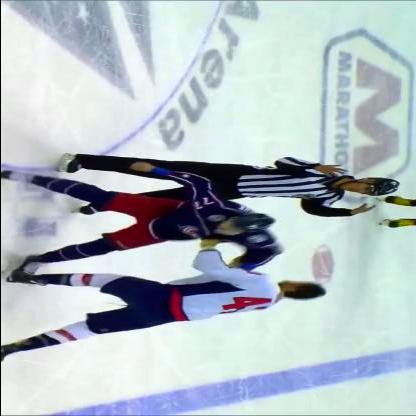voilence: (1, 182, 325, 342)
